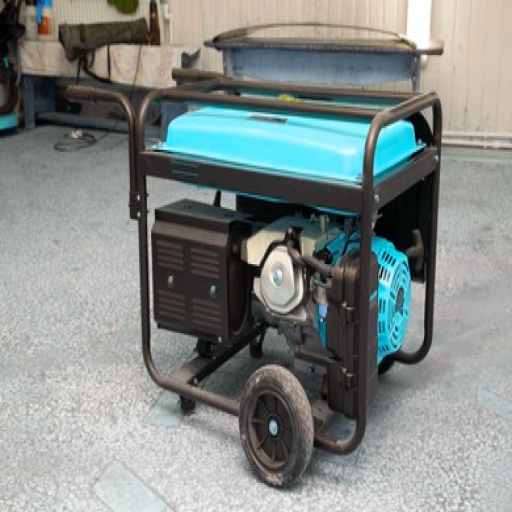portable_generator: (136, 80, 443, 454)
